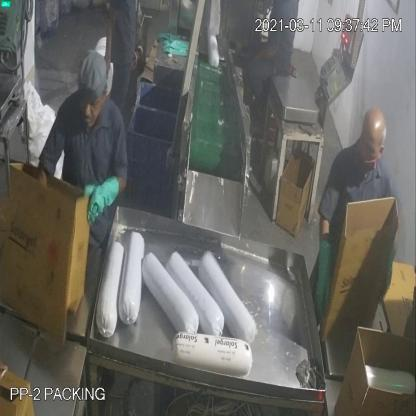glove: (311, 234, 341, 332), (82, 172, 122, 230)
no_glove: (249, 35, 281, 73), (101, 0, 114, 74)
